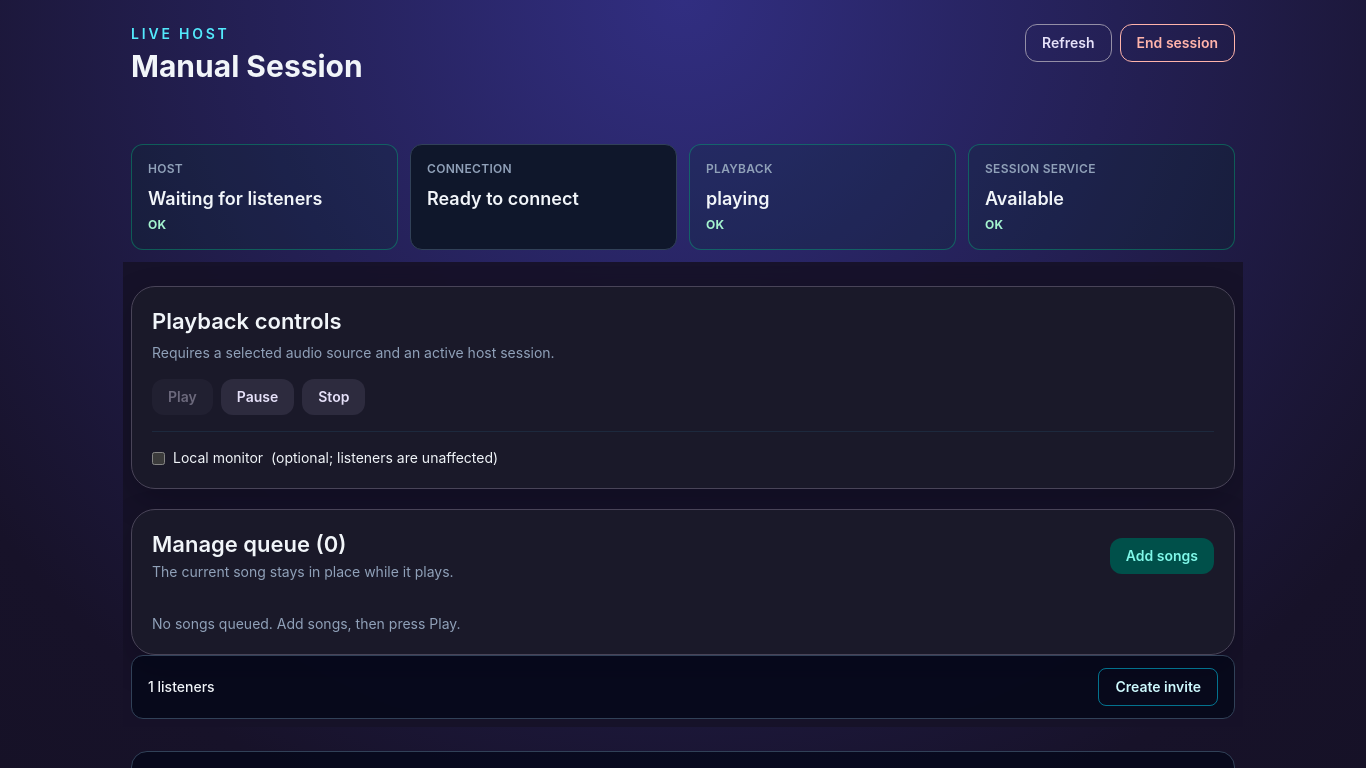
HostSessionScreen playback controls › stops playback while playing and surfaces a failed stop
Click the button "Stop" at (334, 397), box [302,379,366,415]
(page scrolled)
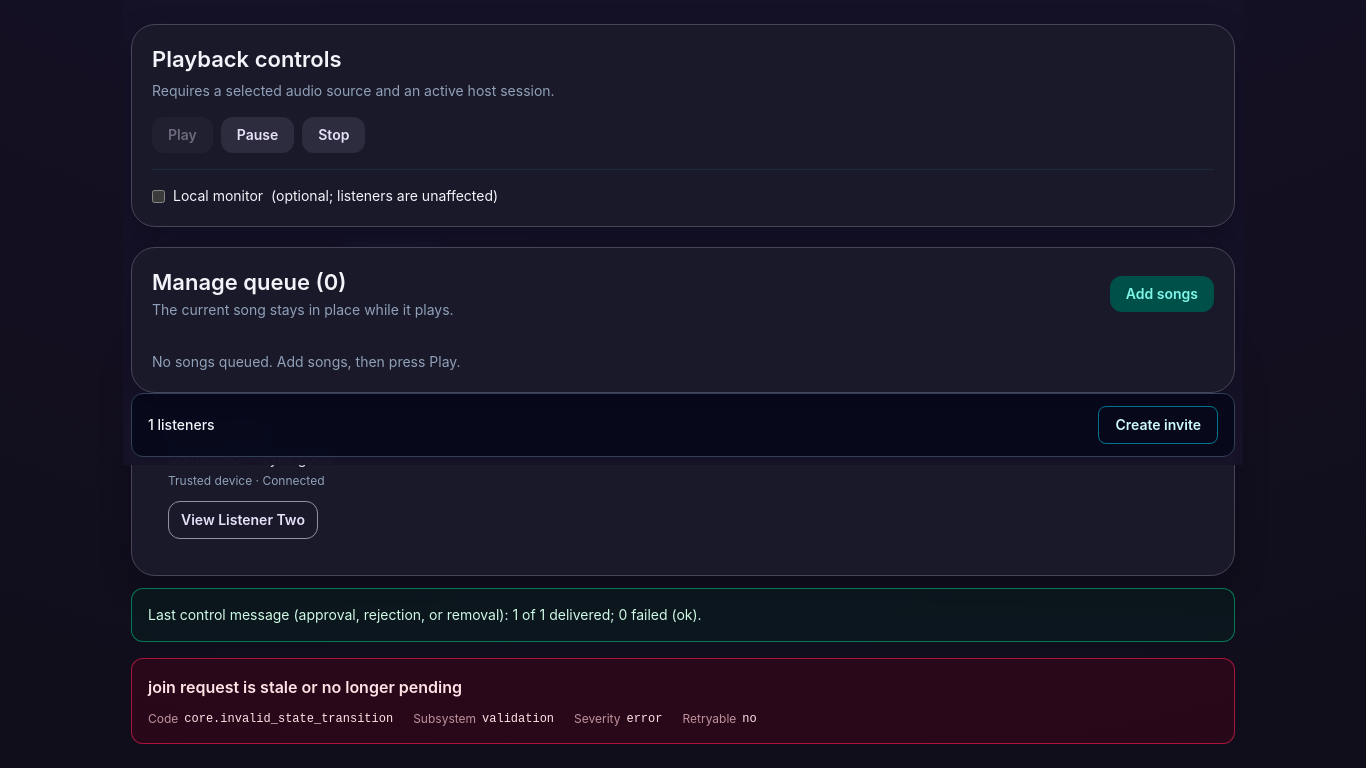
Now the text "join request is stale or no longer pending" is shown, box [148,675,462,699]
